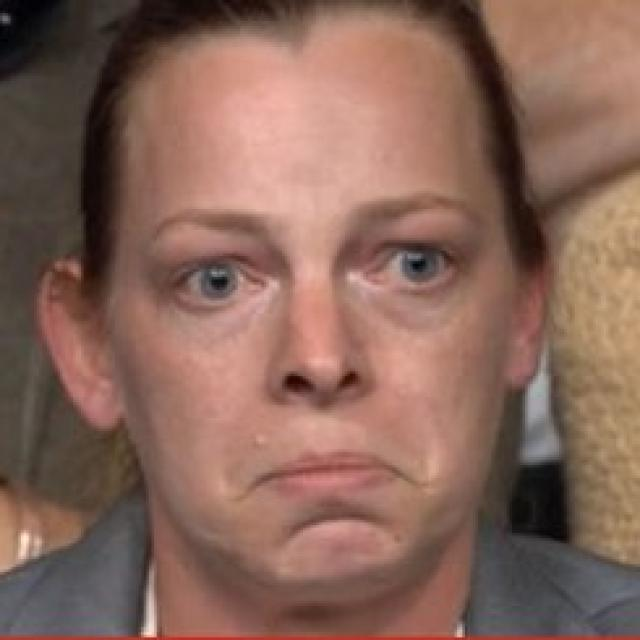Depress: (108, 31, 521, 604)
